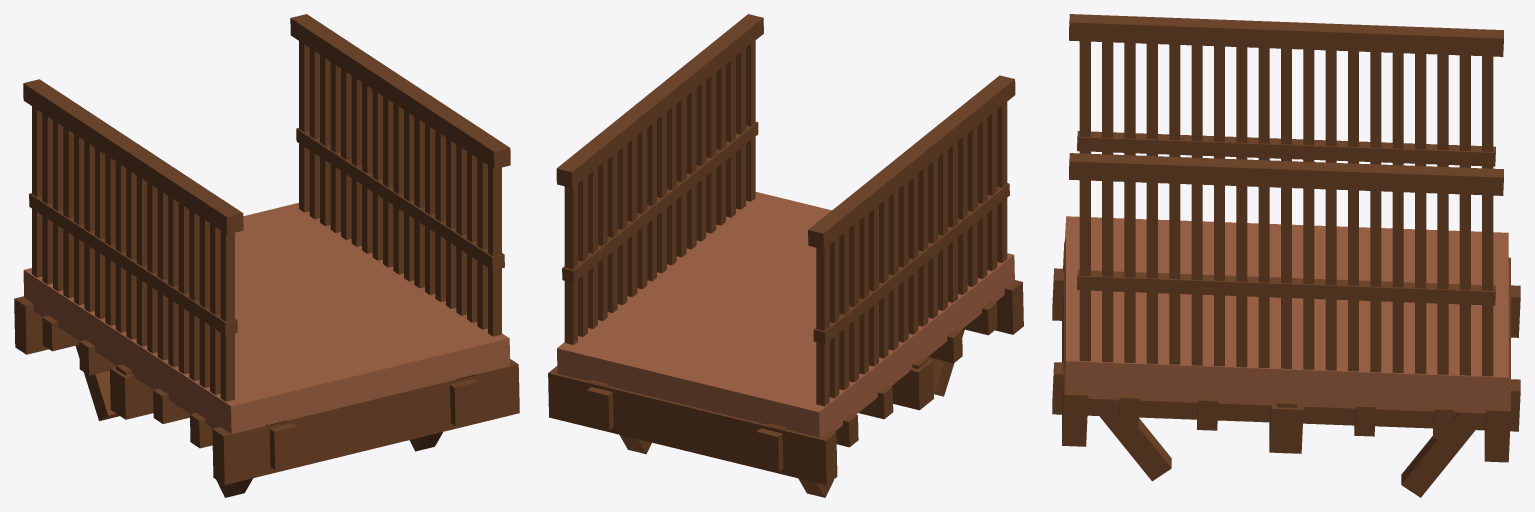
Rendered from JW_Hacienda_V7_UpperConnection.fbx.
The picture shows the model from 3 angles, left to right: view 1: azimuth 30°, elevation 25°; view 2: azimuth 150°, elevation 25°; view 3: azimuth 270°, elevation 25°; orthographic projection. The views are drawn at different scales.
Parts seen in each view (by area): view 1: EXP_UpperLandingConnector; view 2: EXP_UpperLandingConnector; view 3: EXP_UpperLandingConnector.
Boxes of the visible parts, <box> form: EXP_UpperLandingConnector: <box>14,14,519,497</box>; EXP_UpperLandingConnector: <box>548,14,1023,497</box>; EXP_UpperLandingConnector: <box>1052,14,1520,497</box>.
Size of what is drawn, in the model's own units: 182 by 232 by 194.
